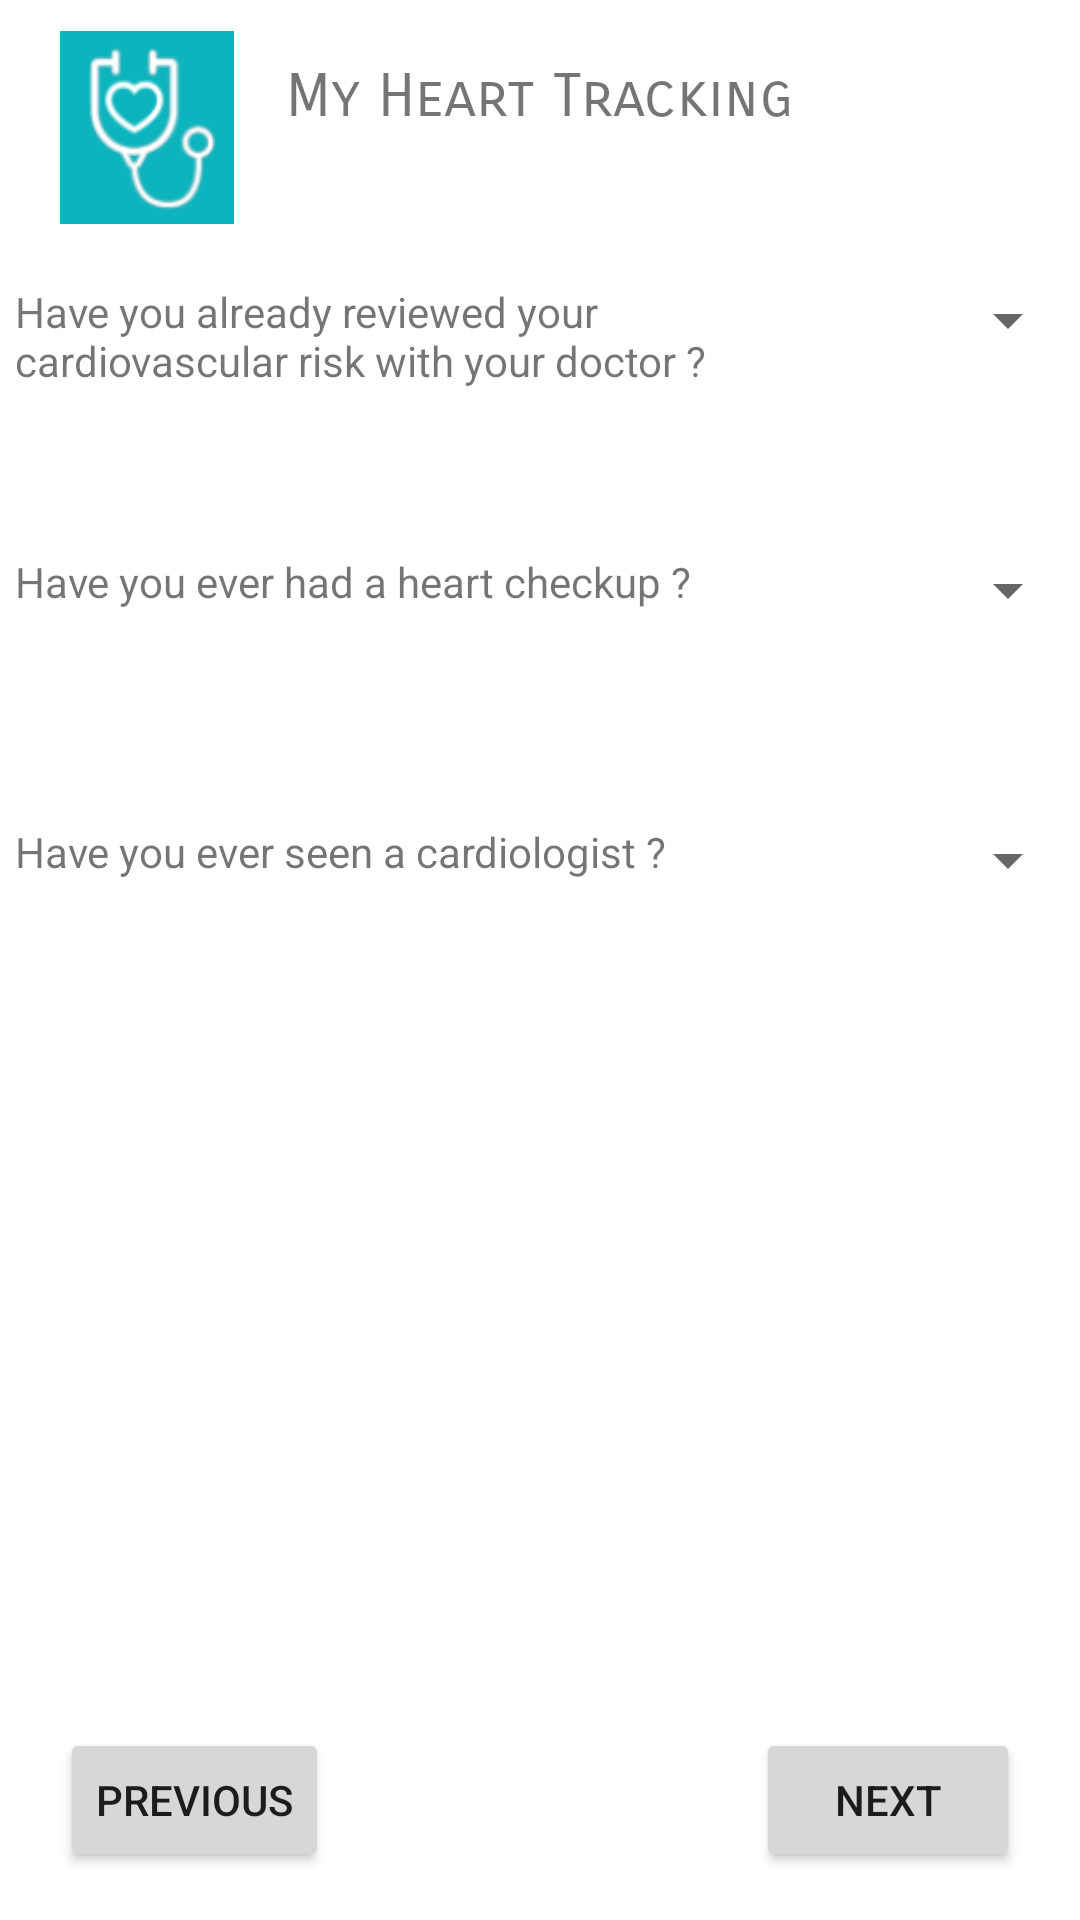

Point at icon controls on the screen. Image size 1080×1920, points as [x,y].
monsuivicardiaque: [147,127]
